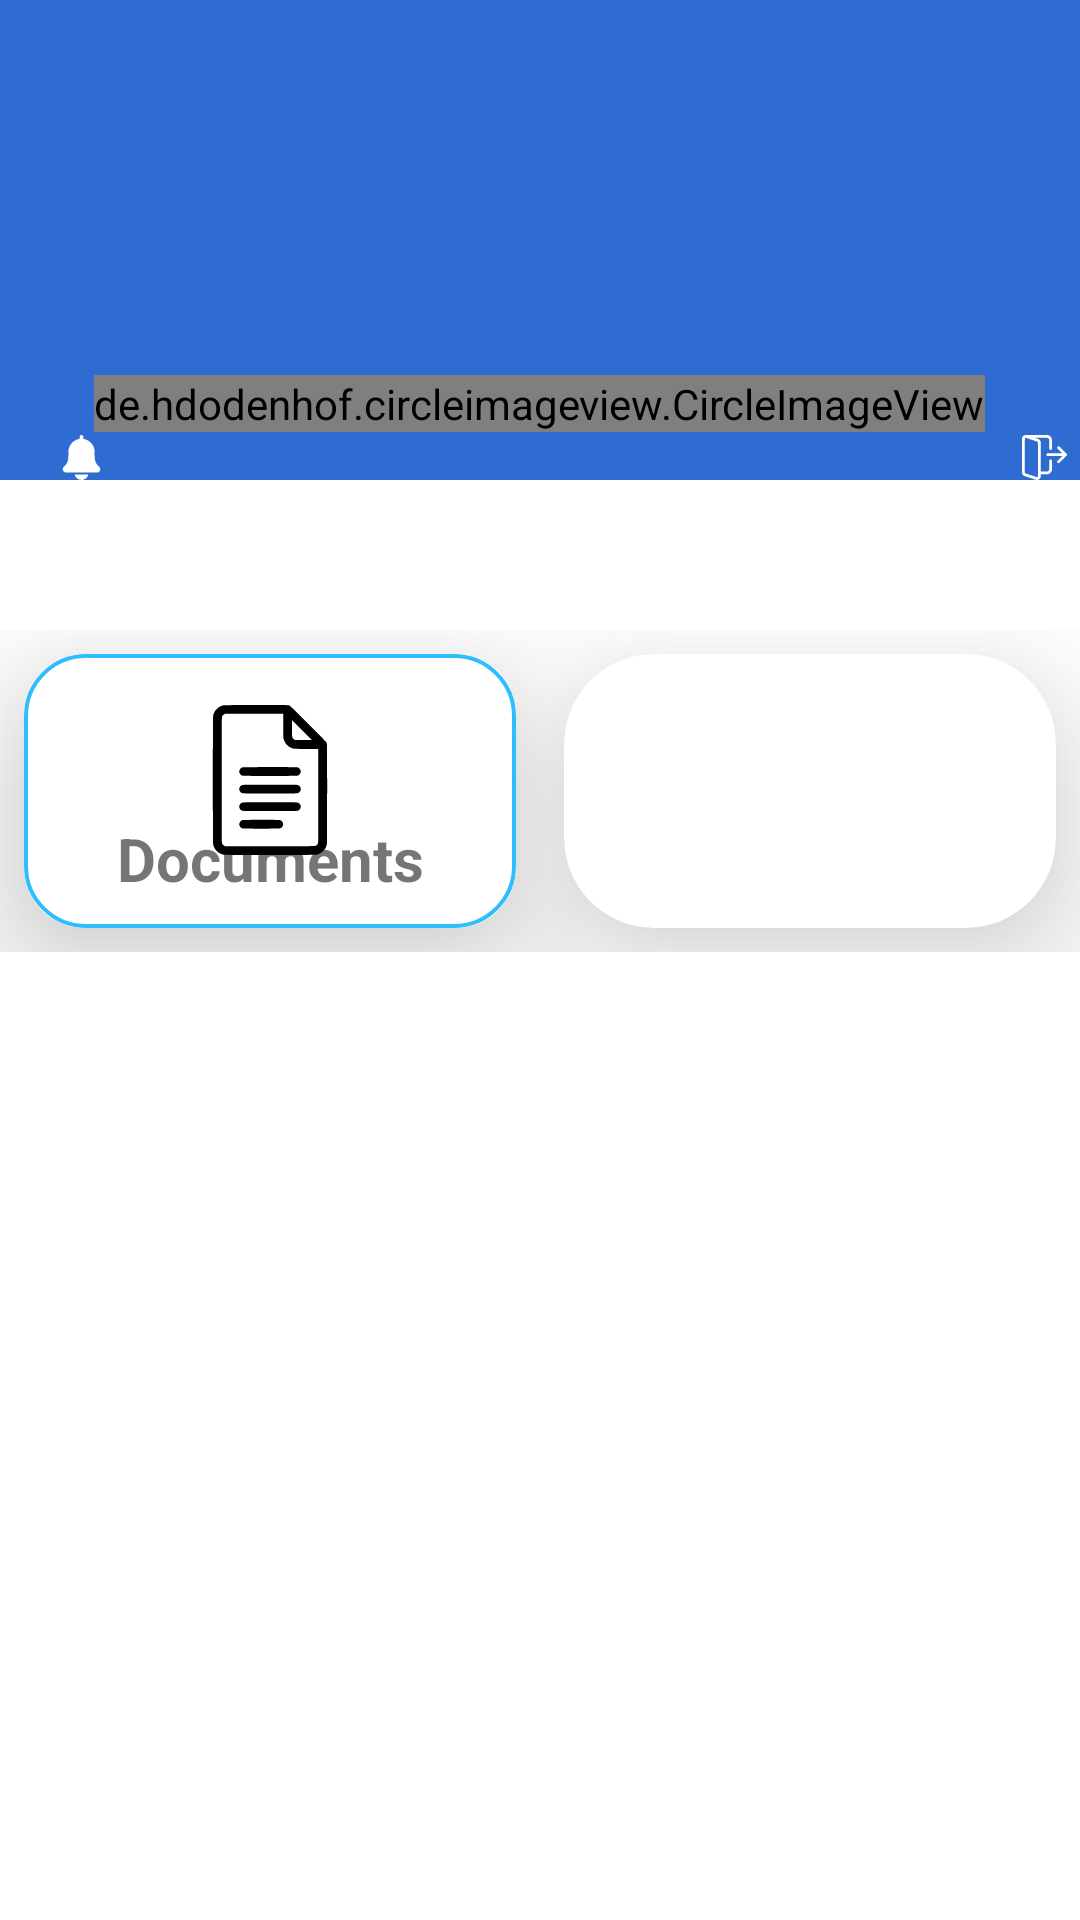

Screen size 1080px x 1920px. Icon name, then its box in pixels as bbox=[x1, y1, x2, y2]:
bell: bbox=[62, 435, 101, 473]
